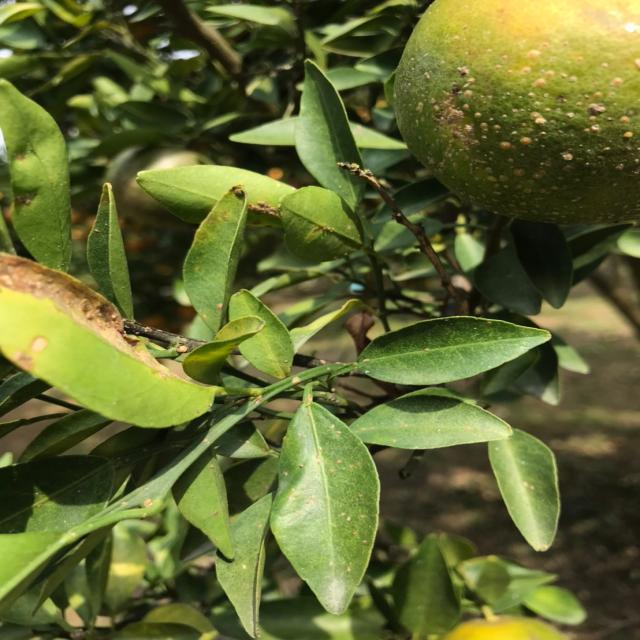canker: (260, 417, 381, 599), (370, 322, 530, 378)
